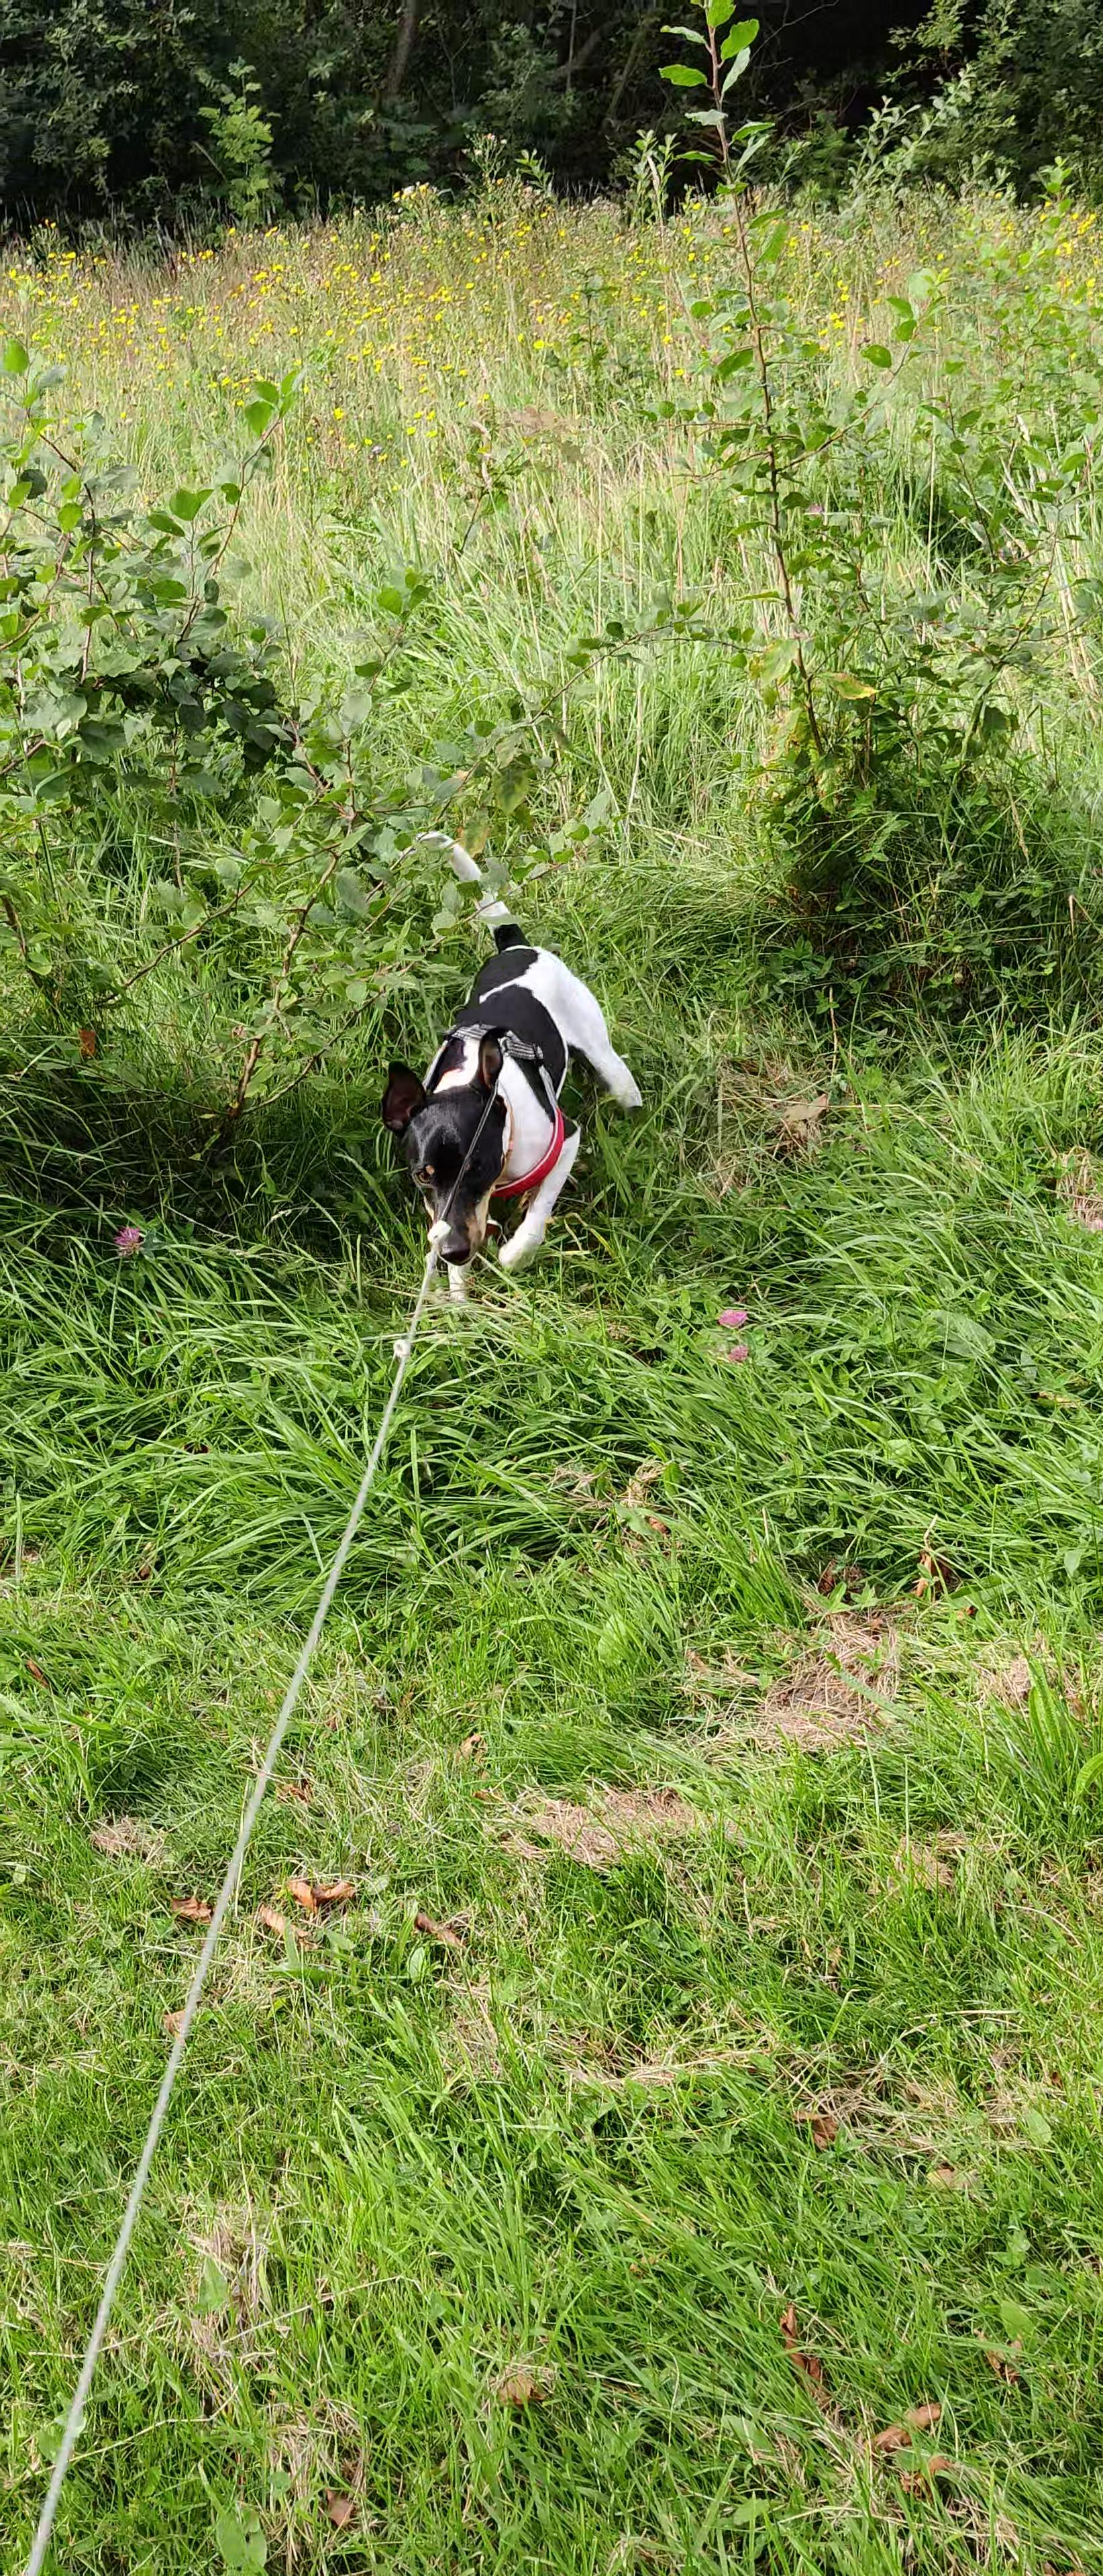Dog: (376, 805, 649, 1327)
